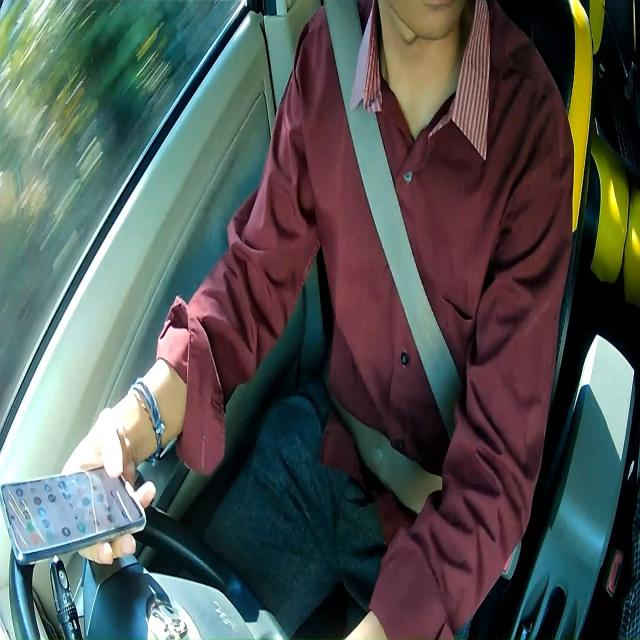phone: (0, 463, 148, 565)
